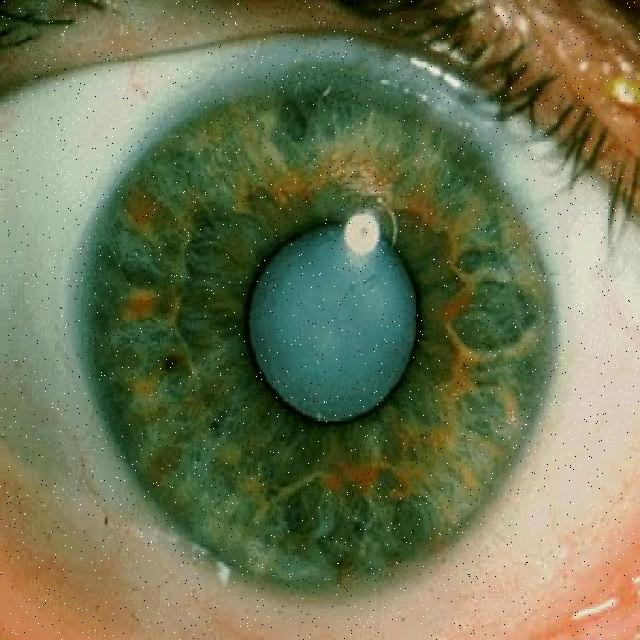Cataract: (76, 54, 574, 590)
